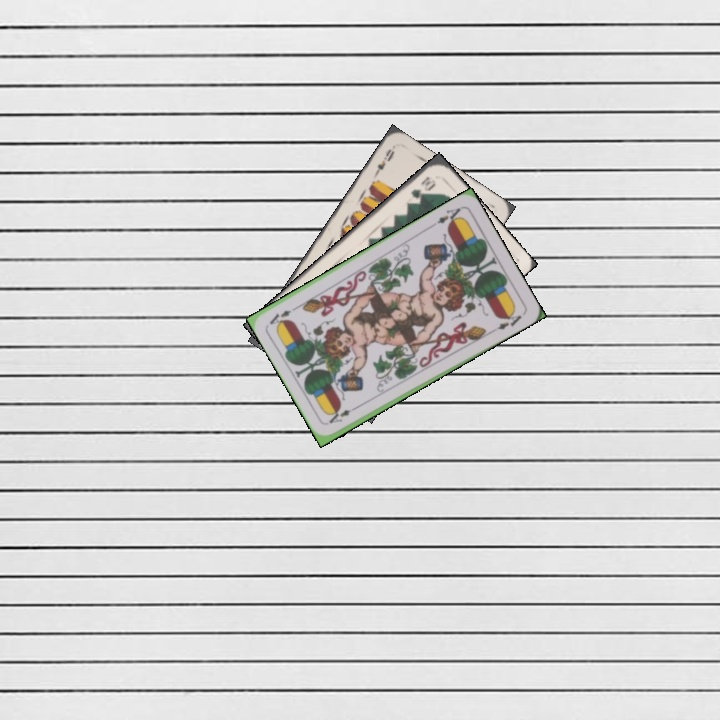E9: (370, 145, 397, 180)
EA: (428, 203, 464, 229), (325, 401, 361, 426)
G10: (407, 172, 438, 201)
